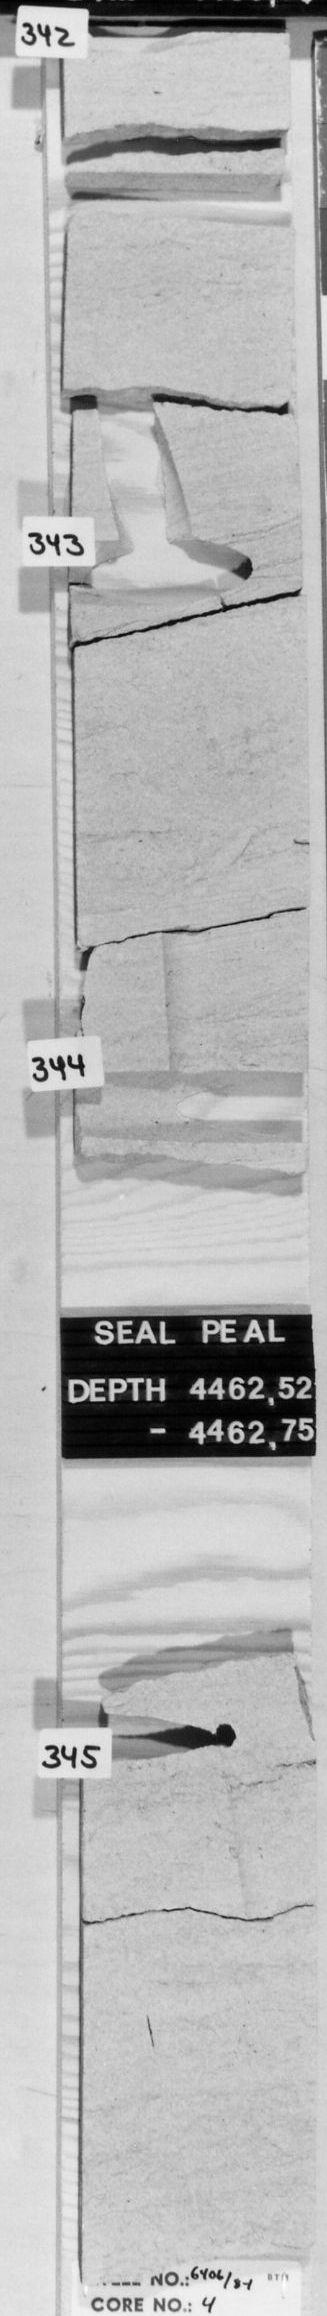hplug: (81, 1066, 306, 1148), (75, 538, 263, 607), (87, 21, 201, 58)
scal: (68, 165, 296, 245)
vplug: (86, 393, 210, 538), (152, 931, 232, 1069)
